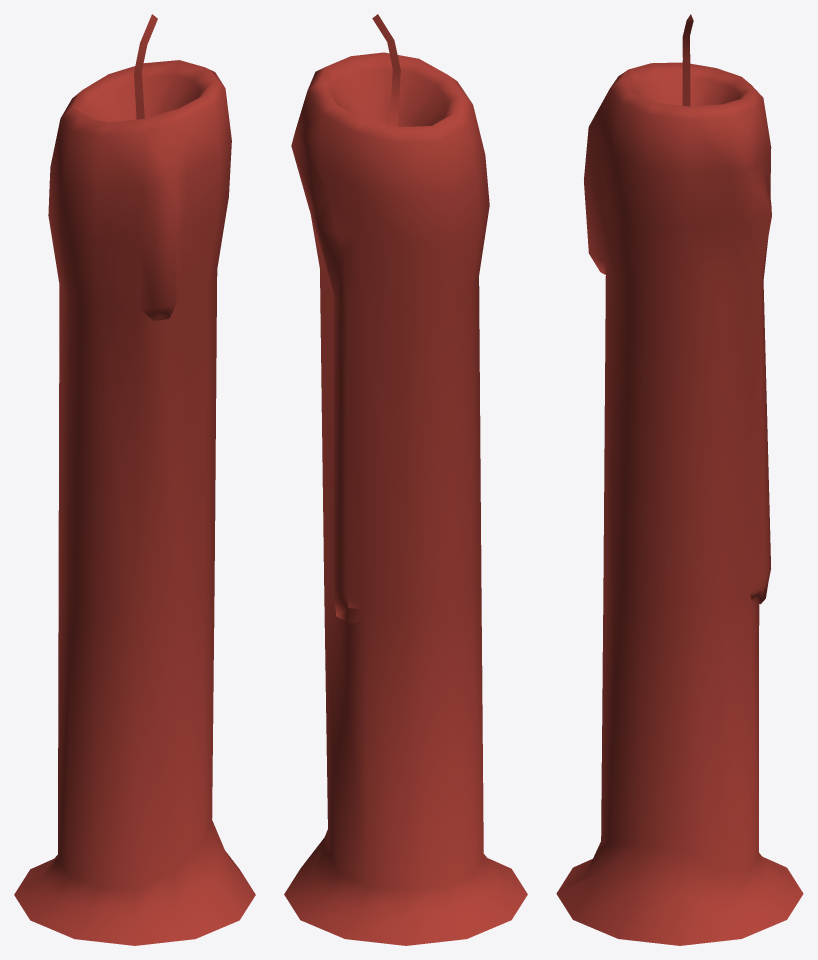
The model's file is decor_candle.fbx.
3 renders of one model, left to right at view 1: azimuth 30°, elevation 25°; view 2: azimuth 150°, elevation 25°; view 3: azimuth 270°, elevation 25°, orthographic. The views are drawn at different scales.
Visible parts, largest first — view 1: decor_candle; view 2: decor_candle; view 3: decor_candle.
Boxes of the visible parts, bbox=[...] form: decor_candle: bbox=[14, 14, 255, 945]; decor_candle: bbox=[284, 14, 527, 945]; decor_candle: bbox=[556, 14, 803, 945].
Bounding box in the file's own units: 4.17 × 16.57 × 4.17.
